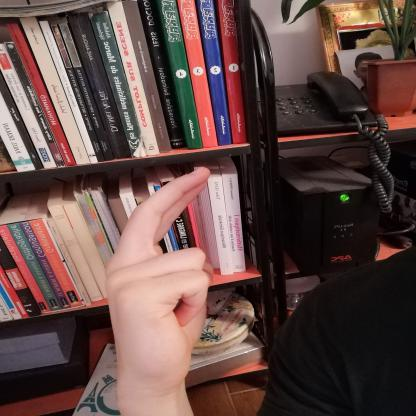ZAY: (95, 156, 225, 399)
